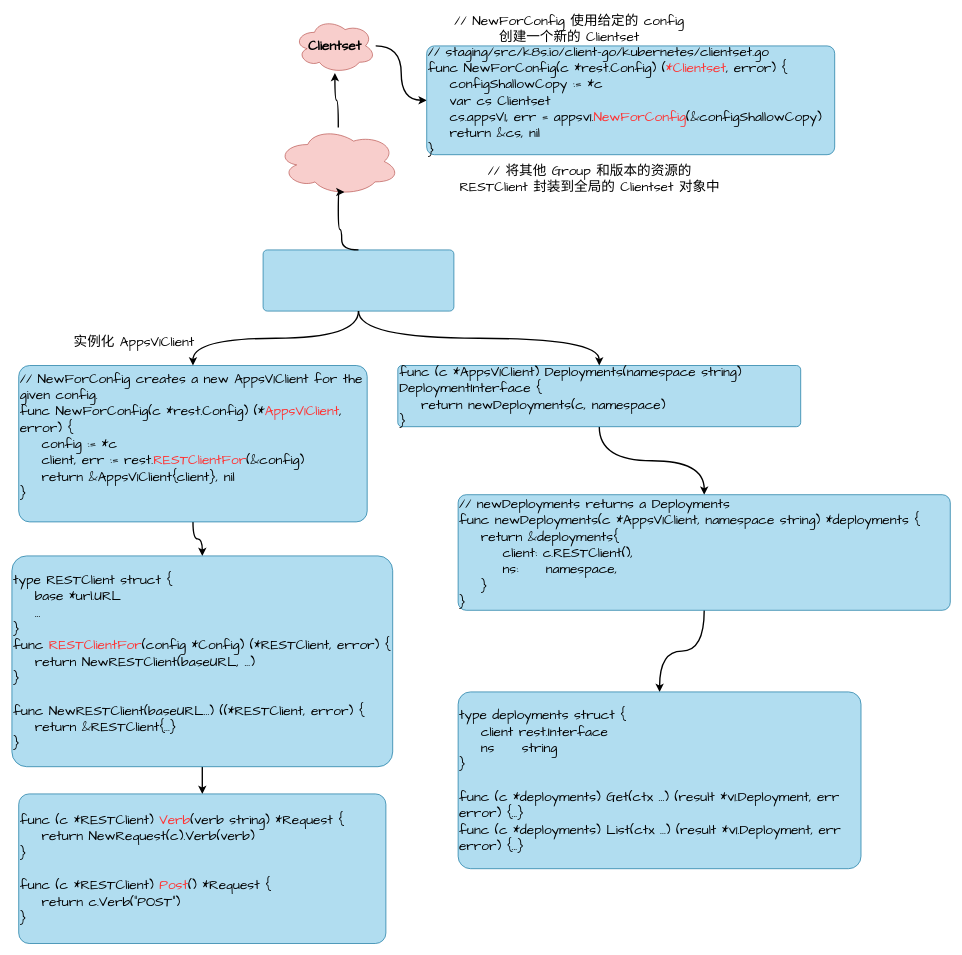
Some shapes in this 962 by 955 pixel diagram are drawn without their labels. Here are the shapes that lost their labels. From the top down, the box of each, then its label:
(276, 127, 400, 196): AppsClientset
(262, 249, 454, 311): type AppsV1Client struct { restClient rest.Interface }
